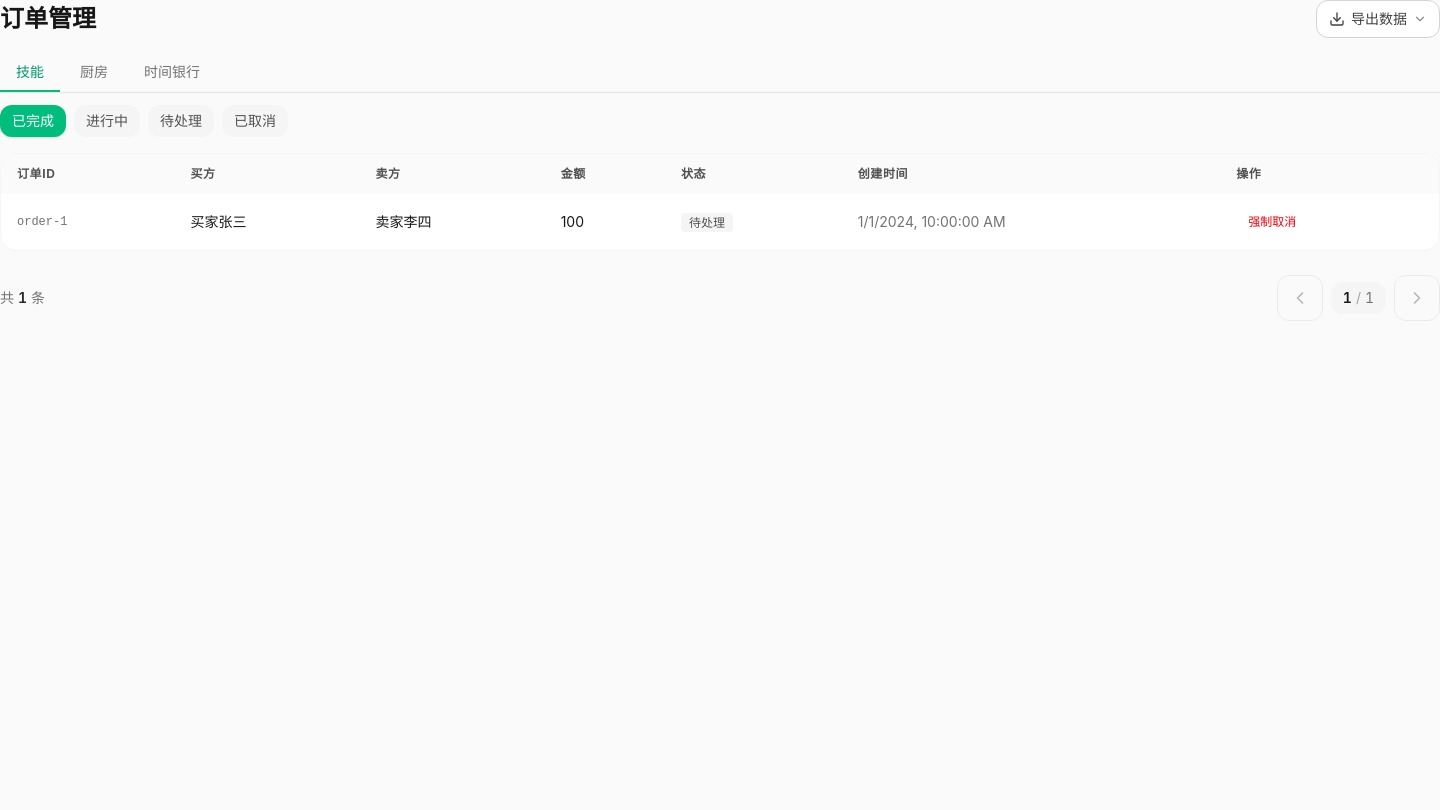
Test case: OrderManagement 强制取消订单弹窗 › 取消失败显示错误提示
The image size is (1440, 810).
Expected: the text "买家张三" is shown, [174,194,360,250]
Click the button "强制取消": (1272, 222) [1236,206,1308,238]
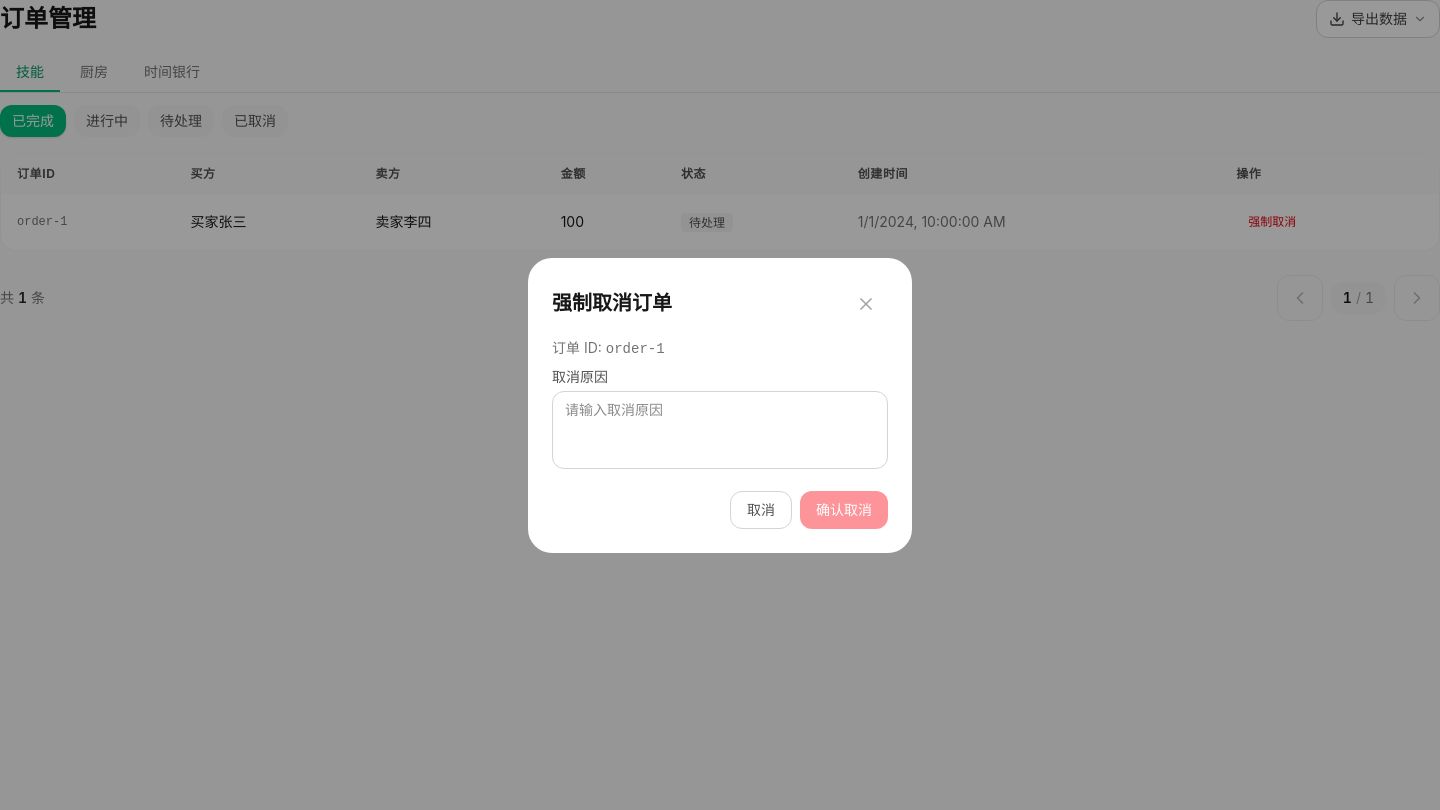
In the text box with placeholder "请输入取消原因": (720, 430) [552,390,888,468], type "违规操作"
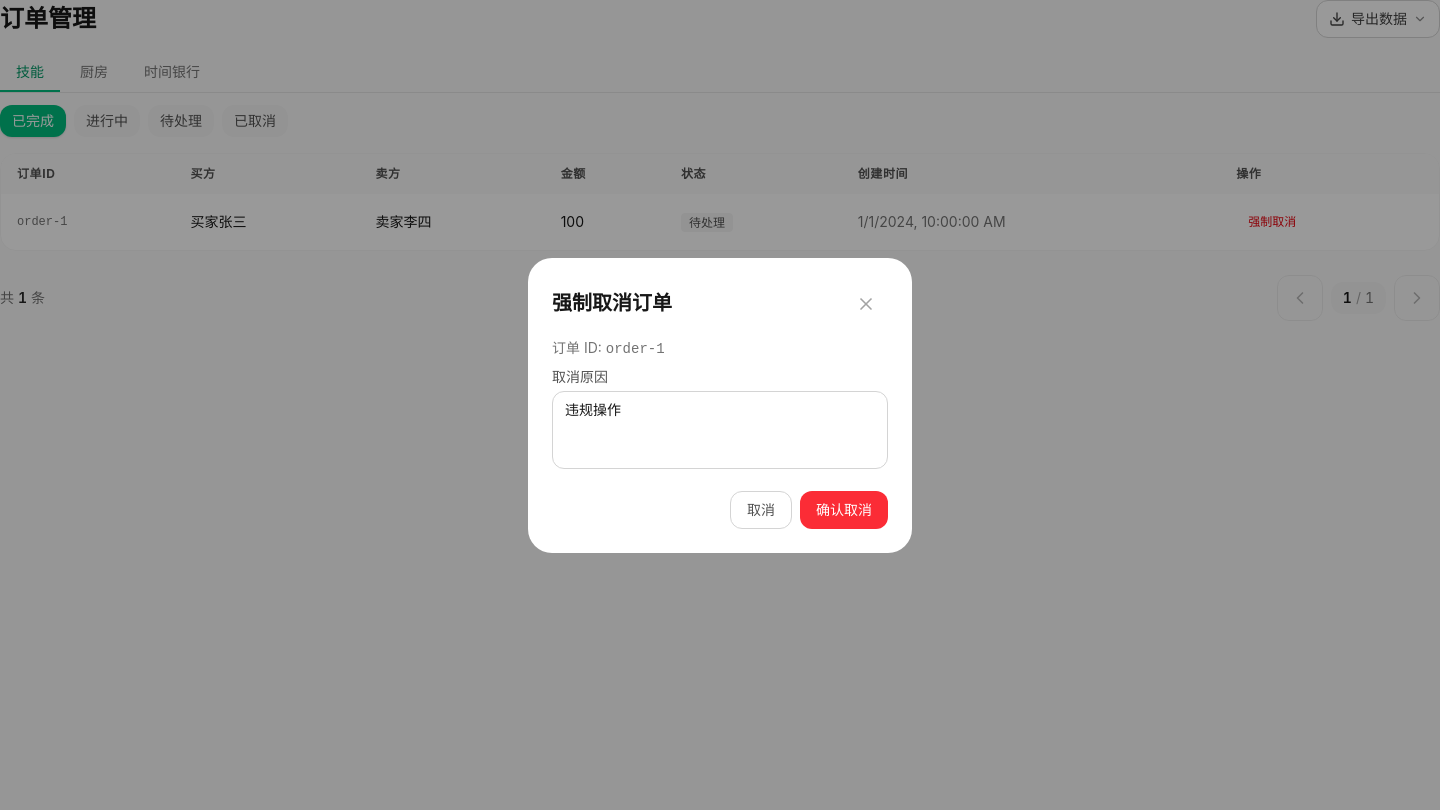
Click the button "确认取消": (844, 510) [800,490,888,528]
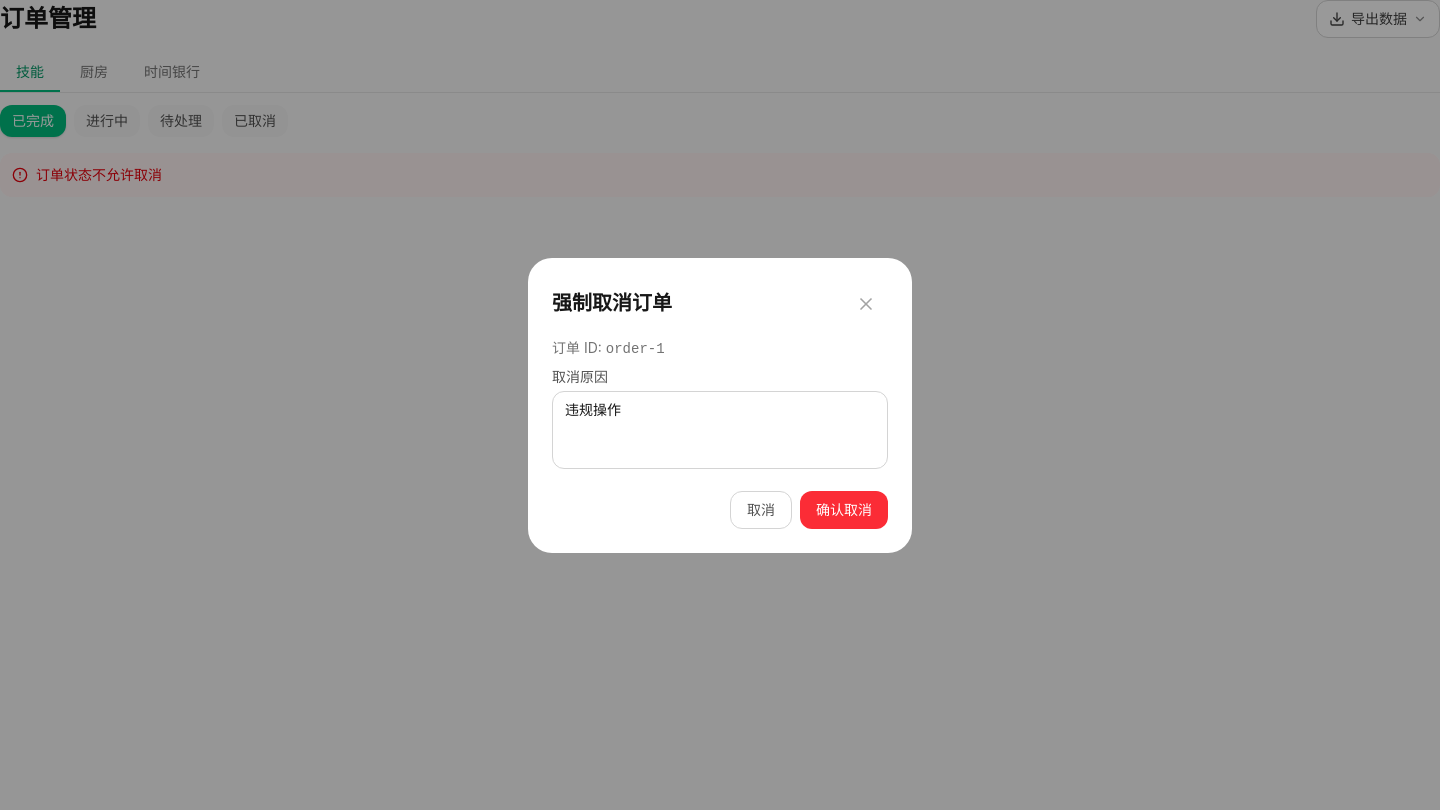
Expected: the text "订单状态不允许取消" is shown, [0,153,1439,197]
